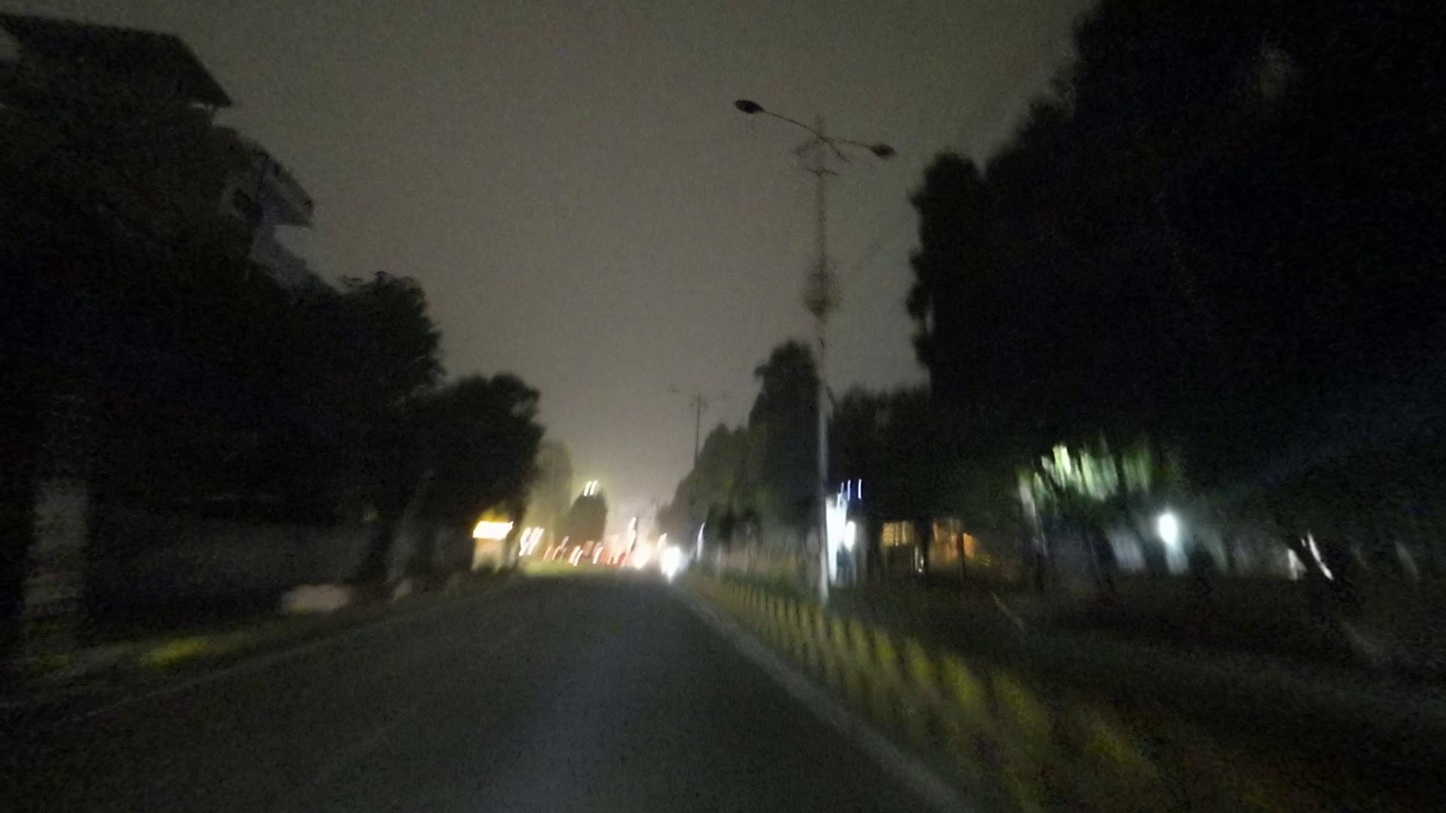streetlight: (732, 94, 816, 134), (832, 129, 903, 161)
